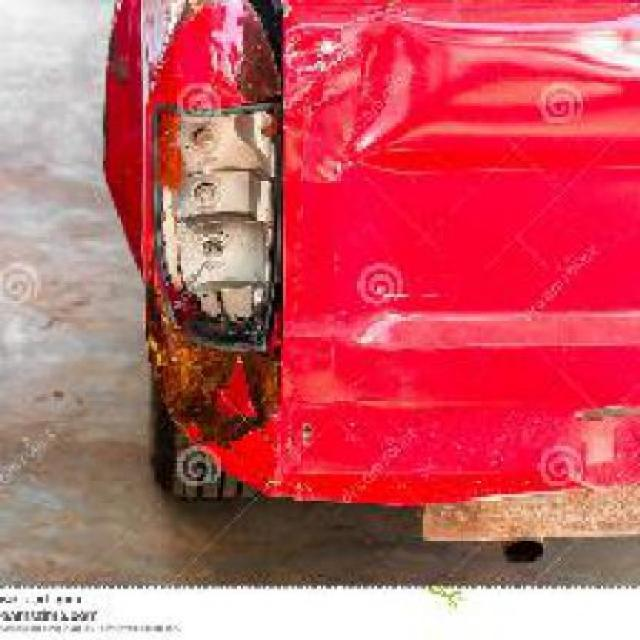damaged-tail-light: (147, 97, 296, 425)
